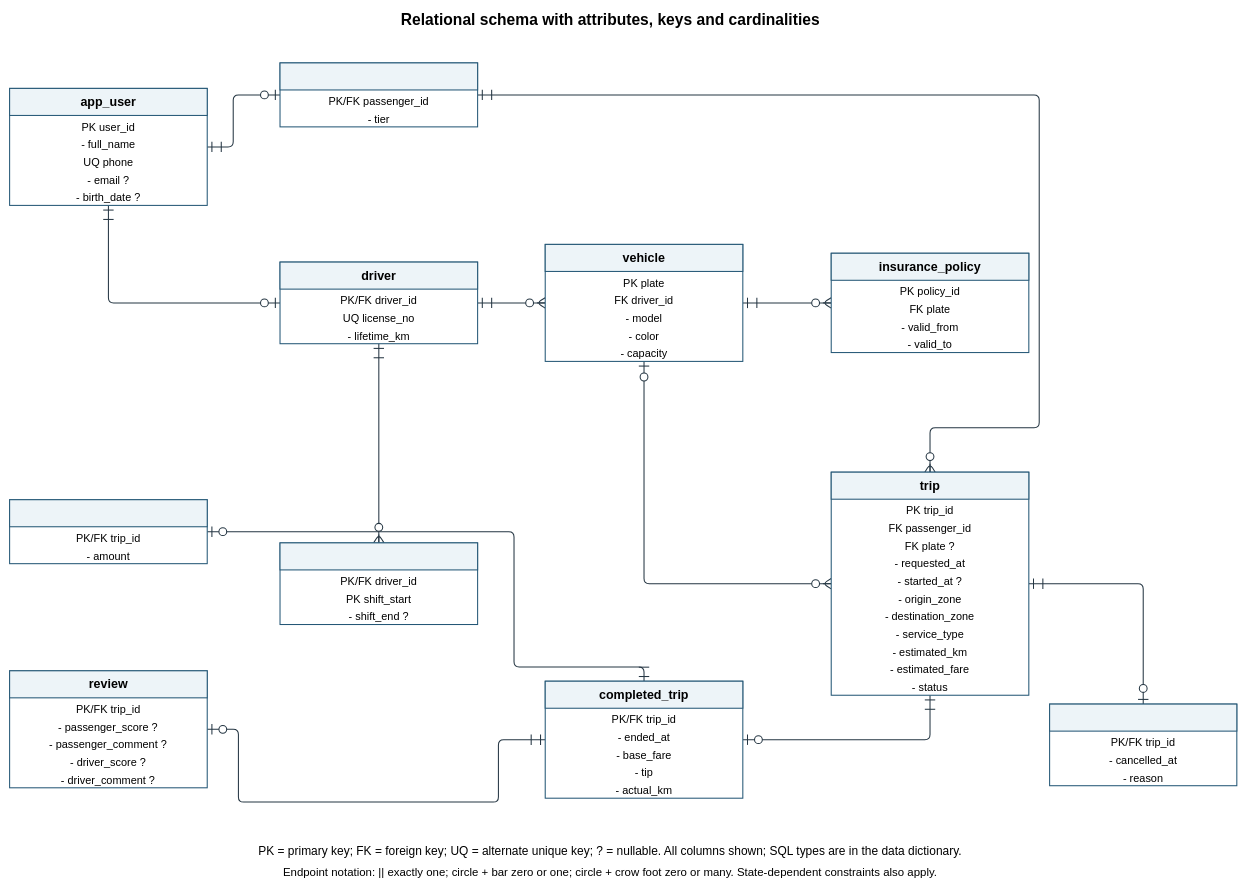
This 1246x889 diagram has some shape labels left out. The box of each missing label's shape, as (x1, y1, x2, y2) in pixels:
cancelled_trip: (1049, 703, 1237, 731)
driver_shift: (279, 542, 478, 570)
passenger: (279, 62, 478, 90)
surcharge: (9, 499, 207, 527)
